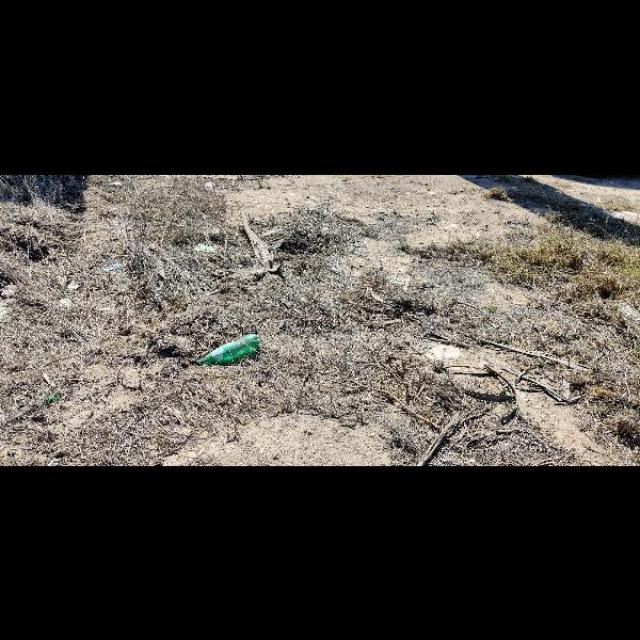dry_waste: (378, 339, 556, 466), (212, 198, 347, 284)
plastic_waste: (177, 328, 282, 382)
